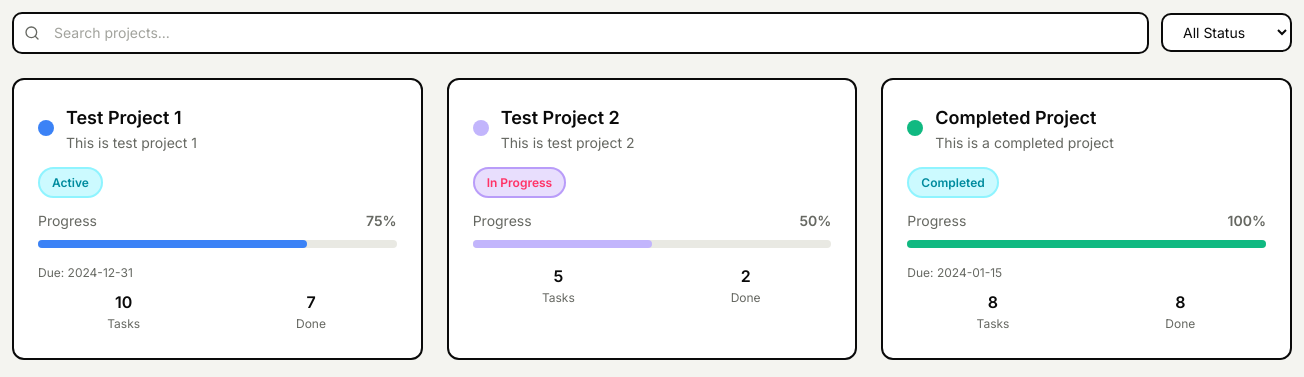
Scenario: ProjectsList Component › Search Functionality › should show no projects found when search has no results
Type "NonExistent" into the field with placeholder "Search projects...".
click(580, 33); type("NonExistent")  # box [12,12,1149,54]
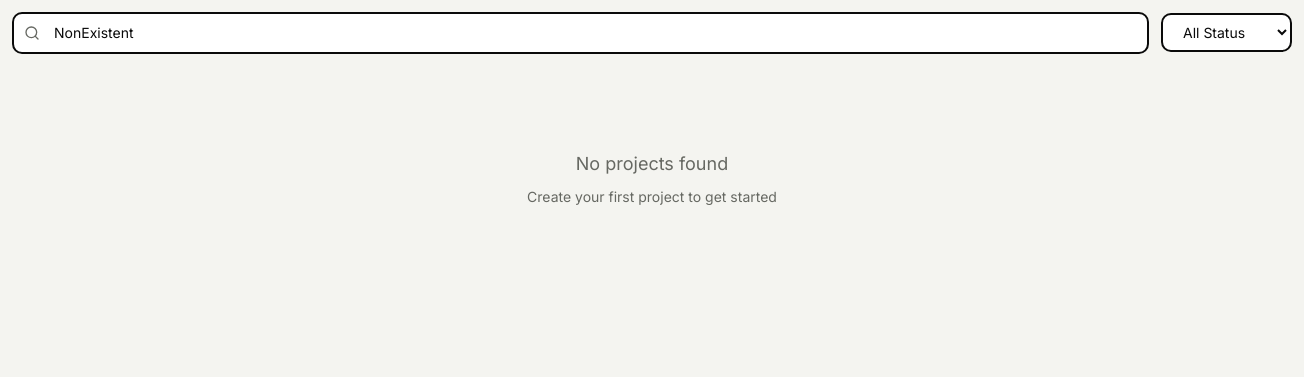
Expected: the text "No projects found" is shown, [576,153,728,174]
Expected: the text "Create your first project to get started" is shown, [527,188,777,205]
